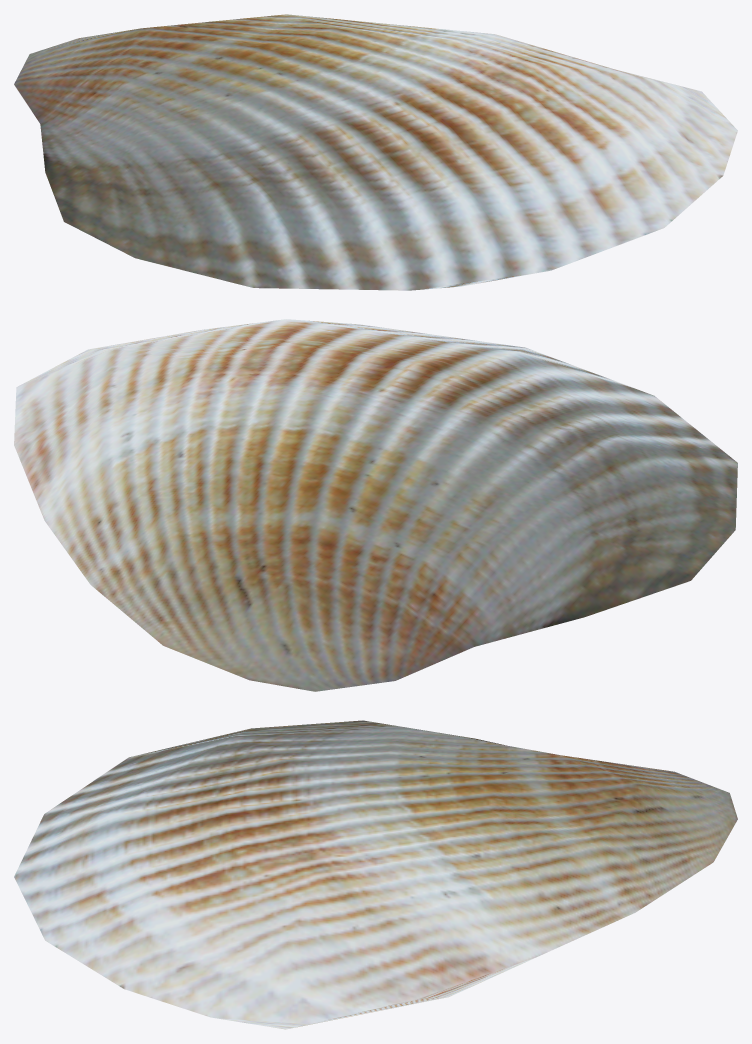
Rendered from SeaShell-15_LOD0_Small.glb.
3 views of the same model, one above another, from view 1: azimuth 30°, elevation 25°; view 2: azimuth 150°, elevation 25°; view 3: azimuth 270°, elevation 25° (orthographic). The views are drawn at different scales.
Visible parts, largest first — view 1: SeaShell-15_high; view 2: SeaShell-15_high; view 3: SeaShell-15_high.
Boxes of the visible parts, left/top/right/bottom form: SeaShell-15_high: left=14, top=14, right=737, bottom=290; SeaShell-15_high: left=14, top=319, right=737, bottom=691; SeaShell-15_high: left=14, top=720, right=737, bottom=1029.
Bounding box in the file's own units: 0.023 × 0.00526 × 0.0232.
1 material, 1 textured.
